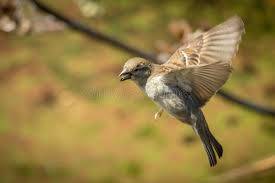hsparrow: (112, 10, 247, 163)
